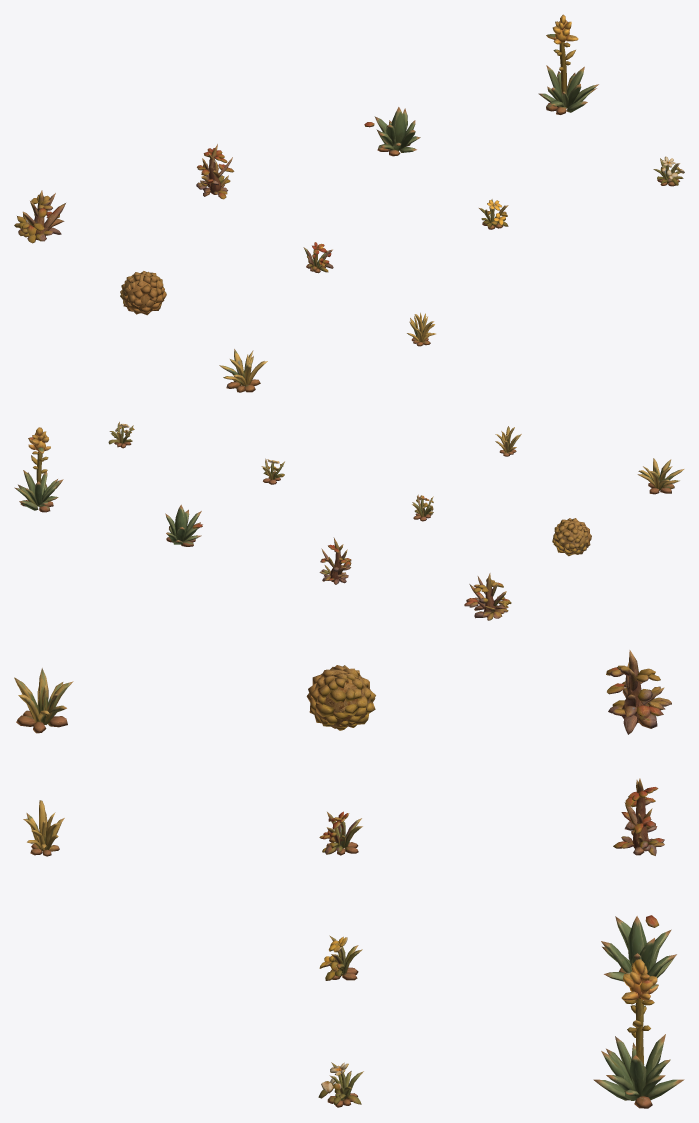
The model's file is bones_pack_04_small_plants_clean.glb.
The picture shows the model from 3 angles, top to bottom: view 1: azimuth 30°, elevation 25°; view 2: azimuth 150°, elevation 25°; view 3: azimuth 270°, elevation 25°; orthographic projection. The views are drawn at different scales.
Parts seen in each view (by area): view 1: agave_b, tumbleweed, bush_thorn_a, agave_a, bush_thorn_b, grass_dry_a; view 2: agave_b, bush_thorn_a, tumbleweed, agave_a, grass_dry_a, bush_thorn_b, flowers_desert_c, flowers_desert_a, grass_dry_b, flowers_desert_b; view 3: agave_b, tumbleweed, bush_thorn_a, agave_a, grass_dry_a, bush_thorn_b, grass_dry_b, flowers_desert_c, flowers_desert_a, flowers_desert_b.
Boxes of the visible parts, x1,y1,x2,y2 form: agave_b: (538,14,598,114); tumbleweed: (120,271,166,315); bush_thorn_a: (14,190,65,243); agave_a: (364,107,420,156); bush_thorn_b: (196,144,234,199); grass_dry_a: (219,349,267,392); agave_b: (14,427,63,512); bush_thorn_a: (464,573,511,620); tumbleweed: (552,518,591,556); agave_a: (165,504,202,546); grass_dry_a: (637,458,684,494); bush_thorn_b: (319,537,351,584); flowers_desert_c: (108,421,134,448); flowers_desert_a: (412,494,433,521); grass_dry_b: (495,426,521,456); flowers_desert_b: (261,458,284,484); agave_b: (593,959,684,1108); tumbleweed: (306,665,375,730); bush_thorn_a: (606,650,671,734); agave_a: (601,915,676,981); grass_dry_a: (14,668,73,733); bush_thorn_b: (613,778,664,855); grass_dry_b: (23,800,64,856); flowers_desert_c: (318,1062,363,1107); flowers_desert_a: (319,811,362,855); flowers_desert_b: (319,935,362,980).
Bounding box in the file's own units: 9.48 × 1.5 × 6.53.
Materials: 1 (1 with a texture image).
